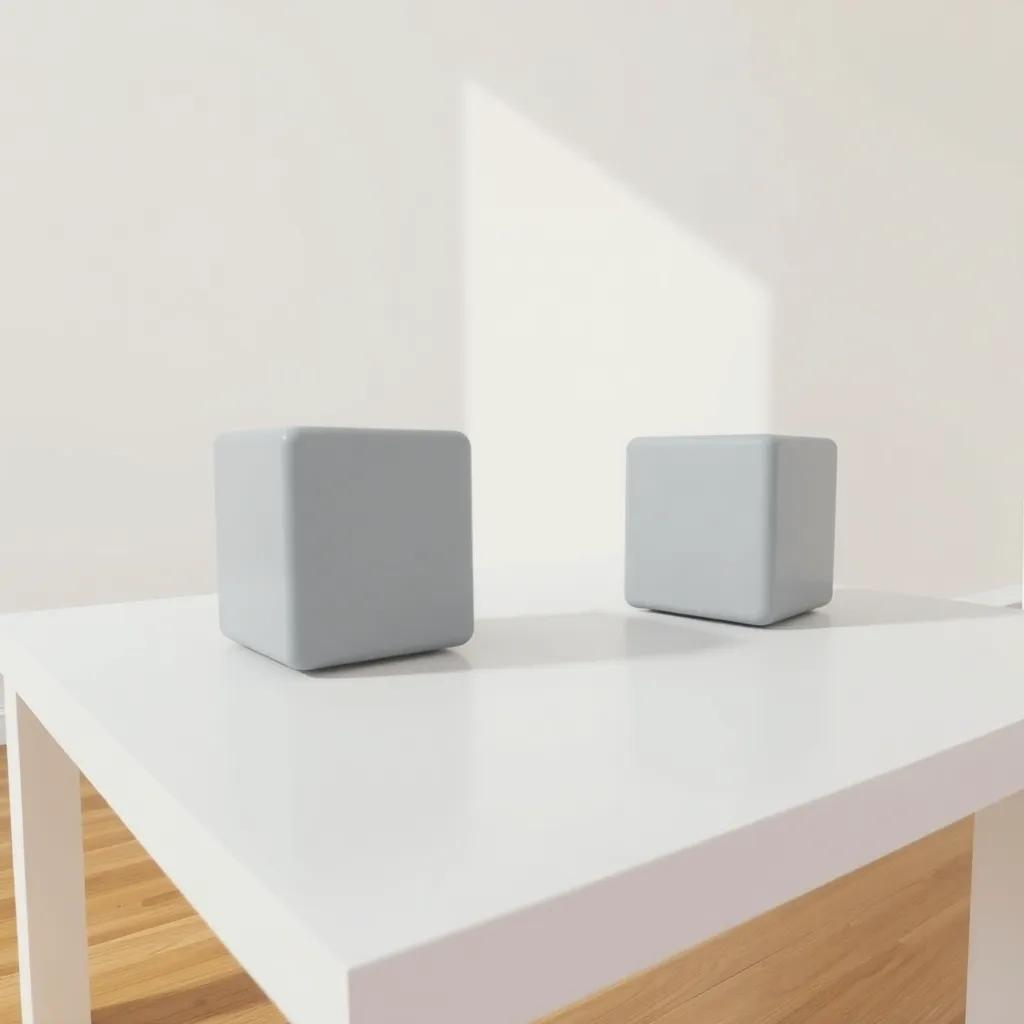cube: (212, 424, 474, 671), (623, 431, 837, 626)
